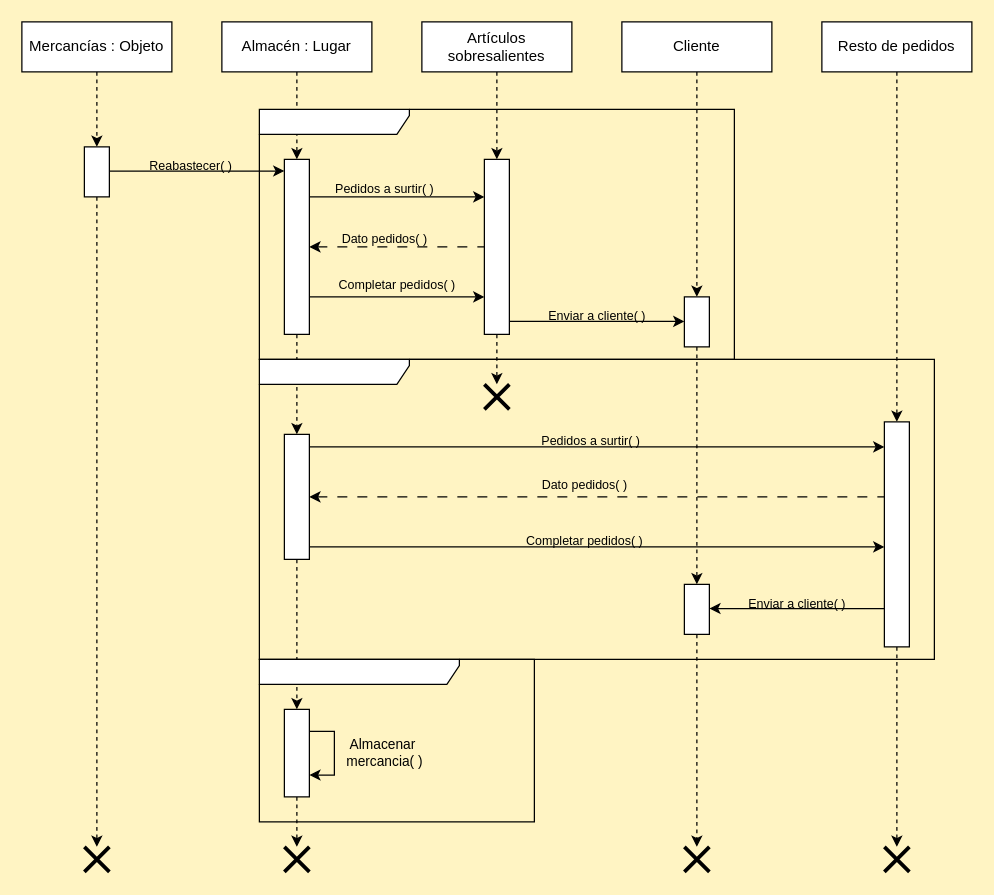
Image size: 994x895. Some labels were removed from this diagram. The box of each missing label's shape, as (x1, y1, x2, y2) in pixels:
else : mercancia insuficiente: (258, 658, 534, 822)
else if : Sobra mercancia: (258, 358, 934, 659)
if : mercancia suficiente: (258, 108, 734, 359)
